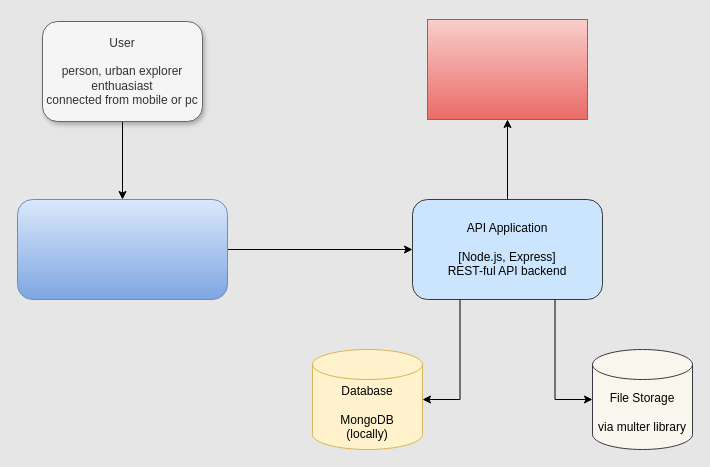
Image size: 710x467. Some labels were removed from this diagram. Each missing label, with the centre of its shape:
"Google Cloud Google Places API for locations" goes at pixel 507 69.
"Web Application [HTML, CSS, Leaflet] UI and interactive map" goes at pixel 122 249.
